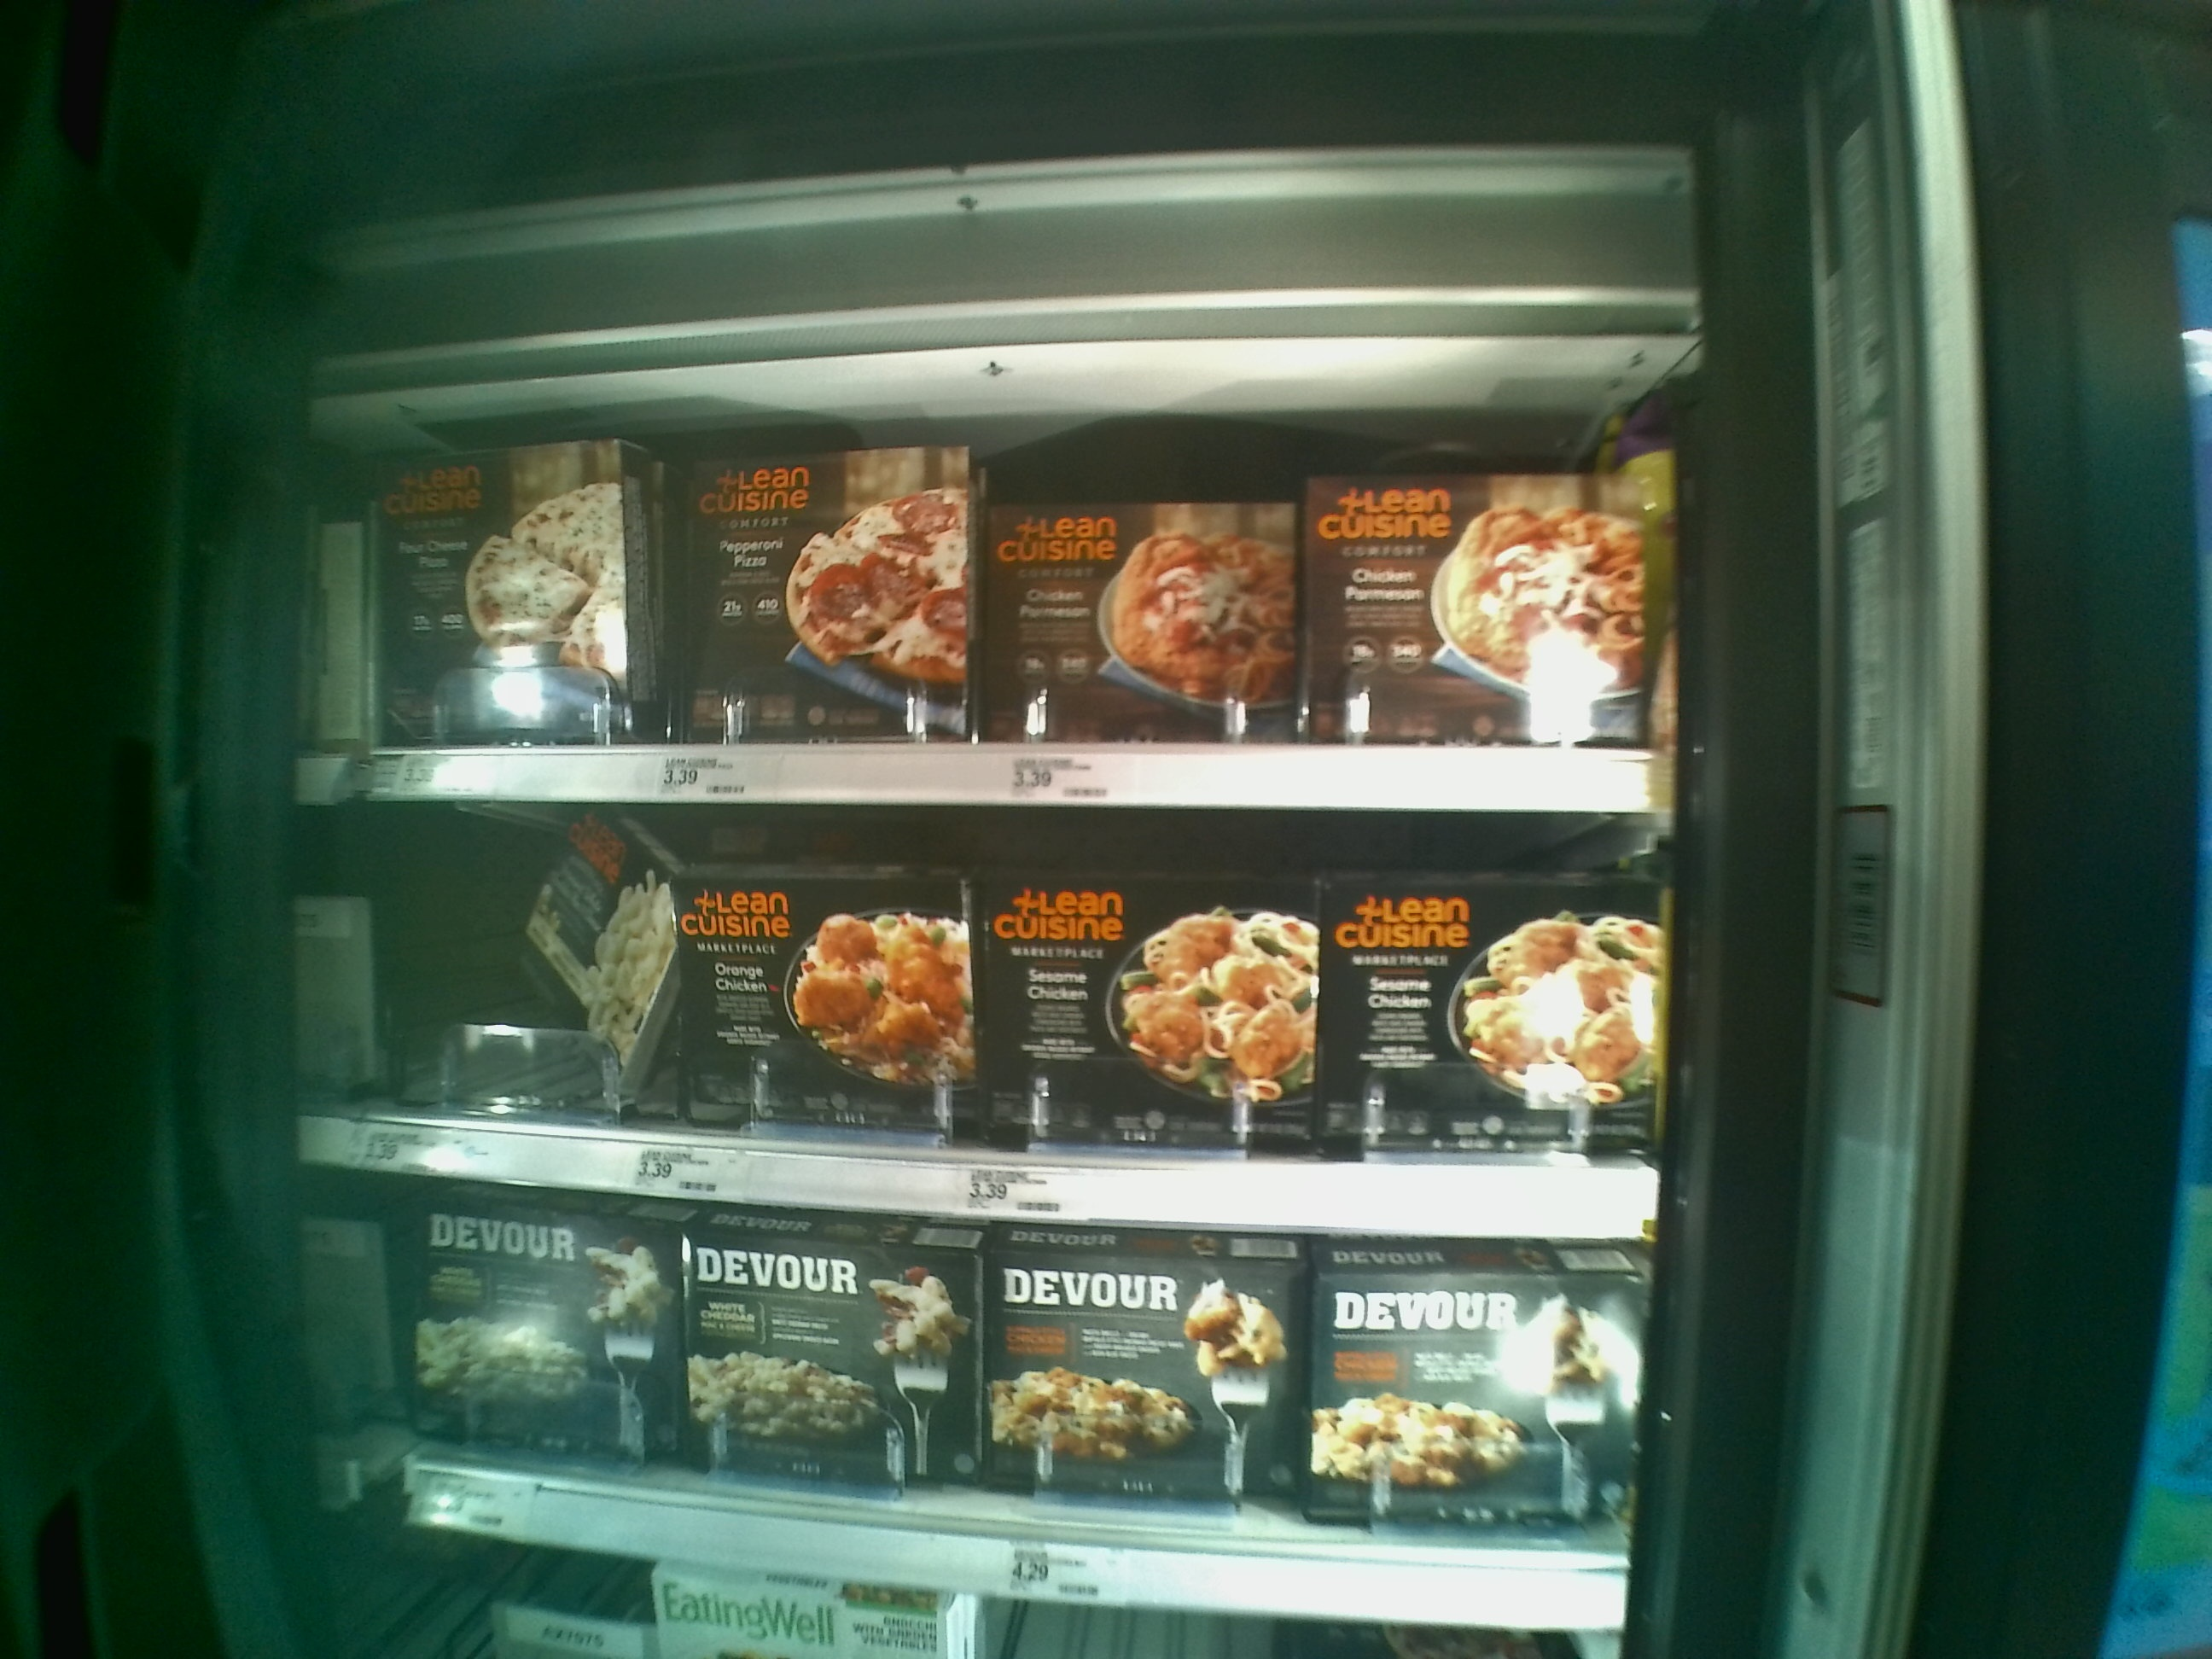shelf: (319, 1173, 1635, 1624), (289, 807, 1649, 1236), (329, 375, 1667, 809)
